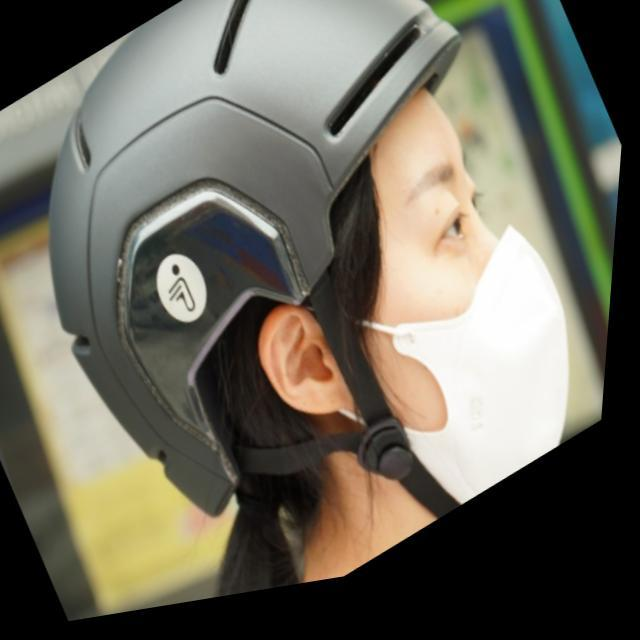Helmet: (45, 0, 584, 516)
